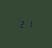one: (26, 19, 32, 27)
two: (19, 20, 25, 28)
